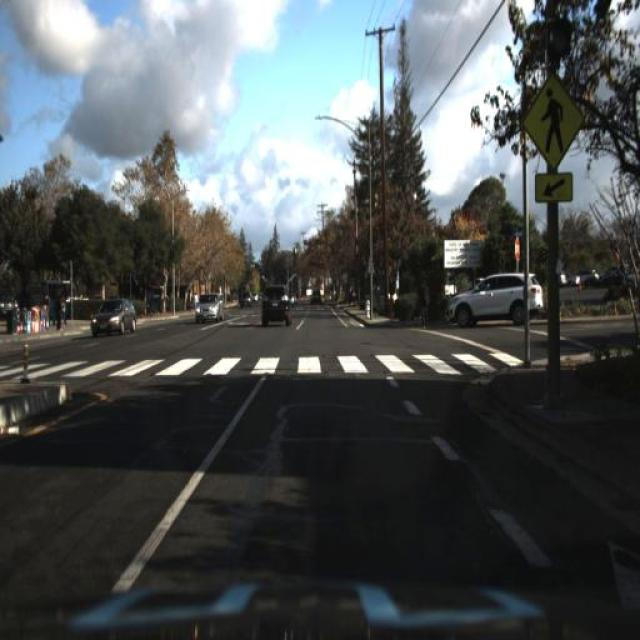car: (445, 272, 544, 319), (251, 269, 304, 341), (254, 281, 292, 333), (91, 296, 138, 336), (194, 290, 223, 324), (307, 284, 325, 308), (239, 291, 251, 311)
trafficLight: (416, 268, 436, 332), (420, 276, 430, 328)
